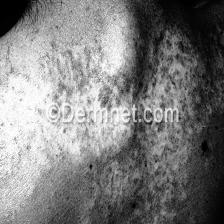Unclassified: (100, 72, 132, 102), (54, 50, 82, 70), (194, 92, 204, 112)
